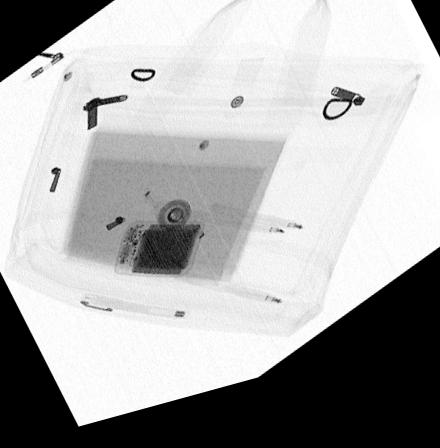Powerbank: (113, 228, 206, 287)
